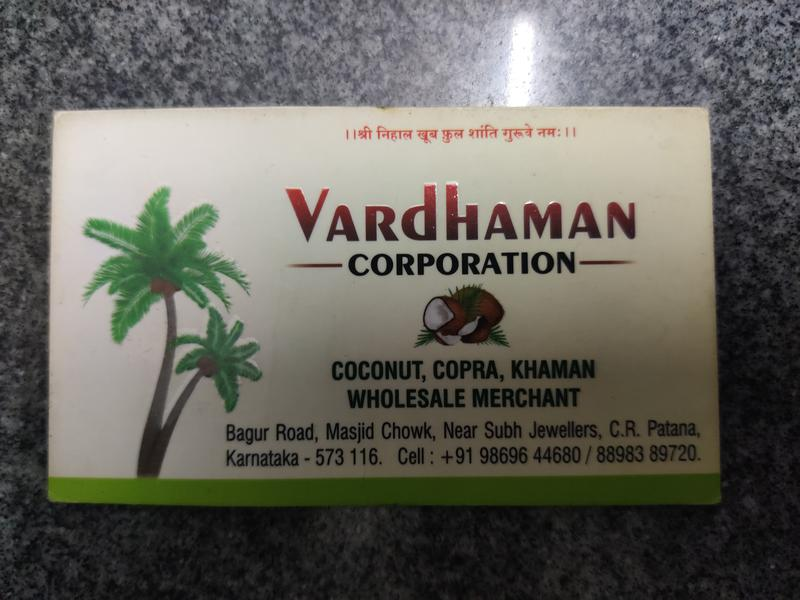card: (45, 104, 729, 508)
